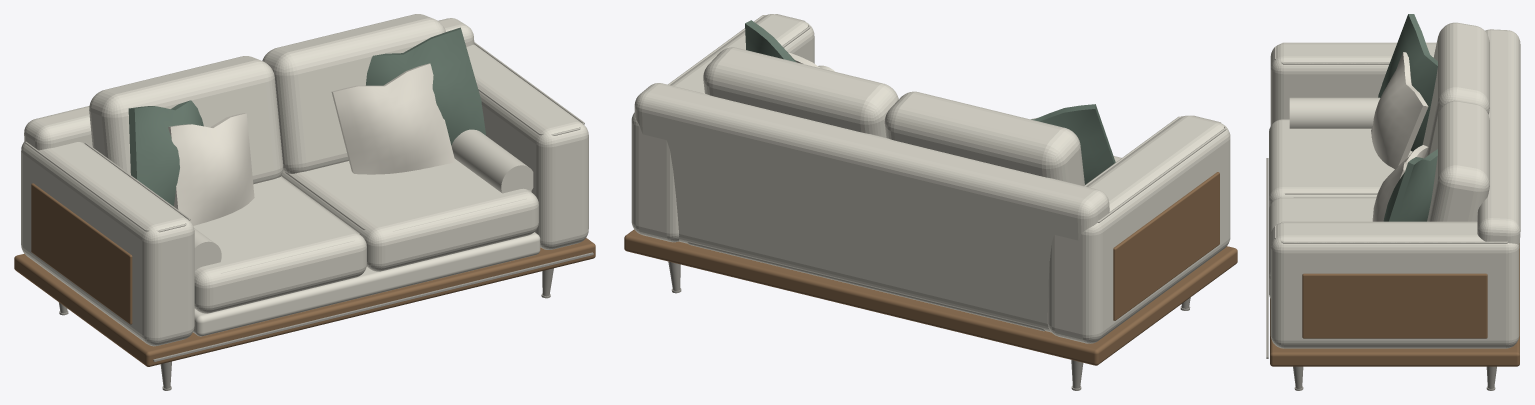
File: milano-chalk-2.glb
3 views of the same model, side by side, from view 1: azimuth 30°, elevation 25°; view 2: azimuth 150°, elevation 25°; view 3: azimuth 270°, elevation 25° (orthographic). The views are drawn at different scales.
Bounding box in the file's own units: 1.7 × 0.8344 × 0.8932.
